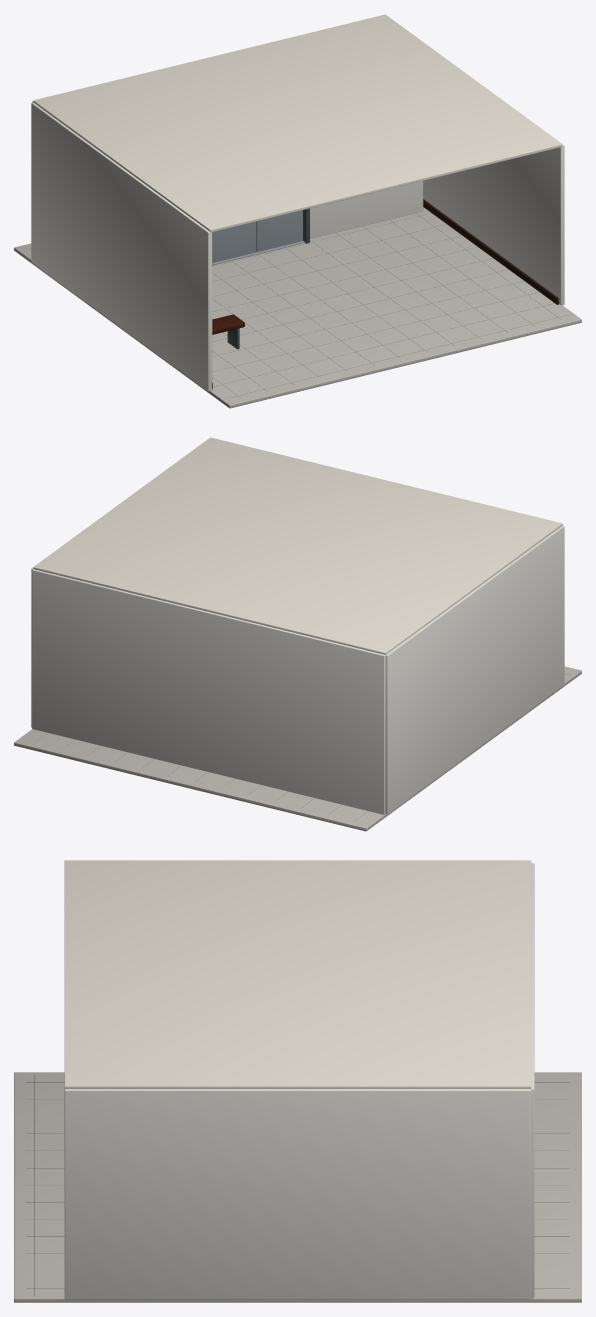
The model's file is room-elevator.glb.
3 renders of one model, top to bottom at view 1: azimuth 30°, elevation 25°; view 2: azimuth 150°, elevation 25°; view 3: azimuth 270°, elevation 25°, orthographic. The views are drawn at different scales.
Visible parts, largest first — view 1: Ceiling, Surface sc:officeWall, Floor, Surface sc:floorJoint, LiftDoorRight, LiftDoorLeft, Surface sc:woodEdge; view 2: Surface sc:officeWall, Ceiling, Floor; view 3: Ceiling, Surface sc:officeWall, Floor, Surface sc:floorJoint.
Boxes of the visible parts, <box> form: Ceiling: <box>33,14,562,232</box>; Surface sc:officeWall: <box>31,101,564,391</box>; Floor: <box>14,207,581,408</box>; Surface sc:floorJoint: <box>212,213,571,398</box>; LiftDoorRight: <box>256,210,302,251</box>; LiftDoorLeft: <box>212,221,256,262</box>; Surface sc:woodEdge: <box>212,199,558,388</box>; Surface sc:officeWall: <box>31,525,564,814</box>; Ceiling: <box>33,437,562,654</box>; Floor: <box>14,666,581,831</box>; Ceiling: <box>64,860,531,1088</box>; Surface sc:officeWall: <box>64,863,534,1299</box>; Floor: <box>14,1072,581,1302</box>; Surface sc:floorJoint: <box>26,1074,569,1296</box>.
Bounding box in the file's own units: 13.36 × 5.89 × 14.
17 materials, 1 textured.
